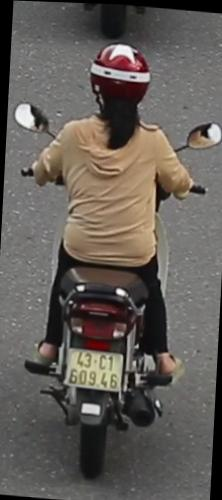LP: (62, 345, 125, 395)
helmet: (81, 35, 158, 108)
